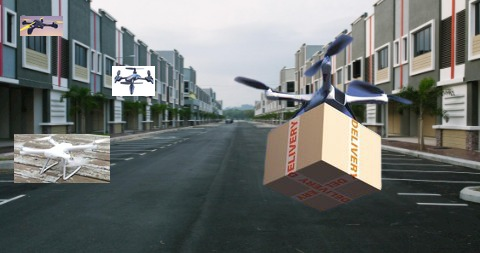drone: (235, 33, 412, 213), (14, 134, 110, 183), (112, 66, 155, 96), (20, 16, 63, 36)
